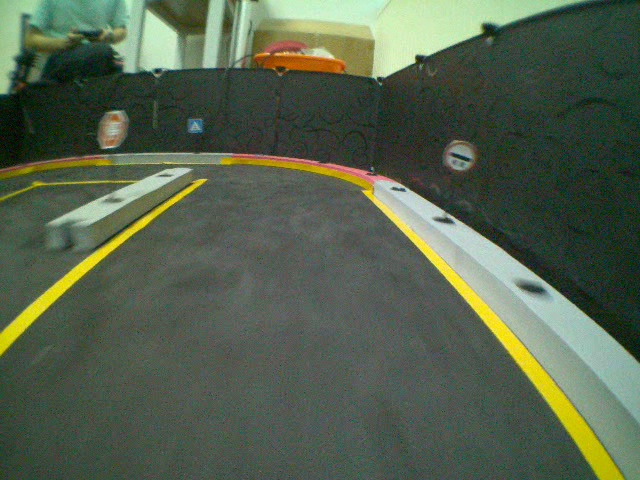Check: (443, 140, 478, 174)
Stop: (95, 109, 128, 150)
crossing: (186, 116, 203, 134)
